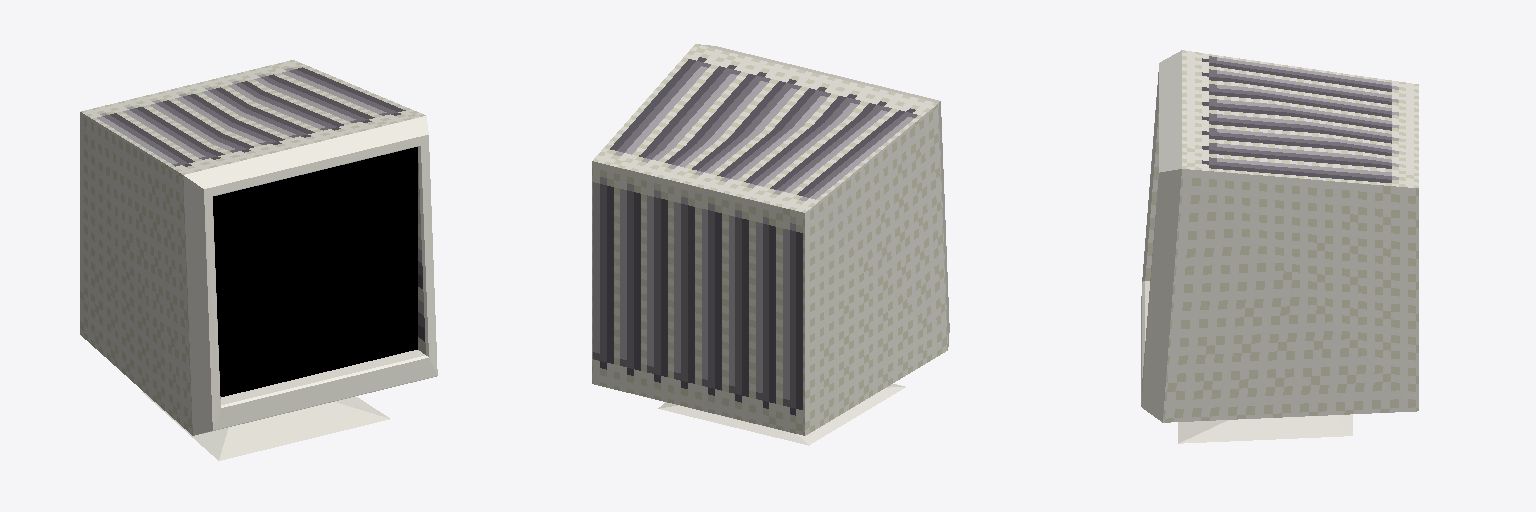
3 renders of one model, left to right at view 1: azimuth 30°, elevation 25°; view 2: azimuth 150°, elevation 25°; view 3: azimuth 270°, elevation 25°, orthographic.
Visible parts, largest first — view 1: Cube; view 2: Cube; view 3: Cube.
Part boxes in pixels (left/top/right/bottom): Cube: left=80, top=60, right=437, bottom=460; Cube: left=592, top=44, right=949, bottom=445; Cube: left=1141, top=50, right=1418, bottom=443.
Size of the model in its own units: 1.76 by 2.03 by 1.74.
1 materials, 1 textured.